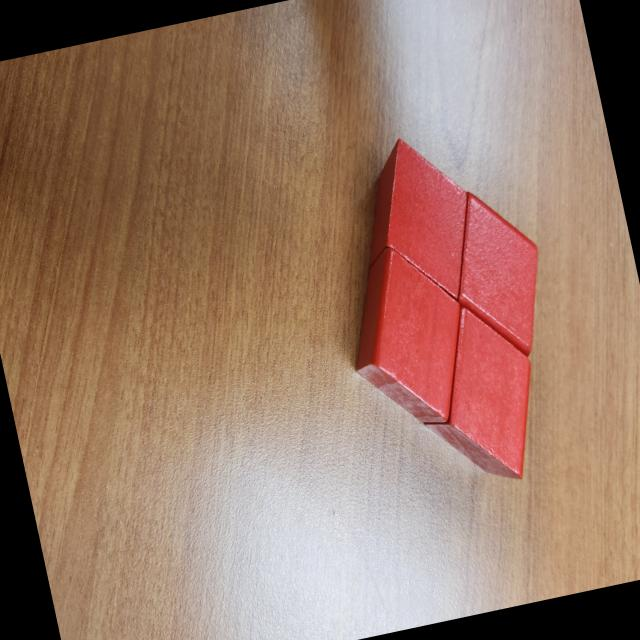red: (331, 234, 482, 438), (408, 292, 555, 496), (341, 126, 486, 318), (436, 177, 560, 369)
